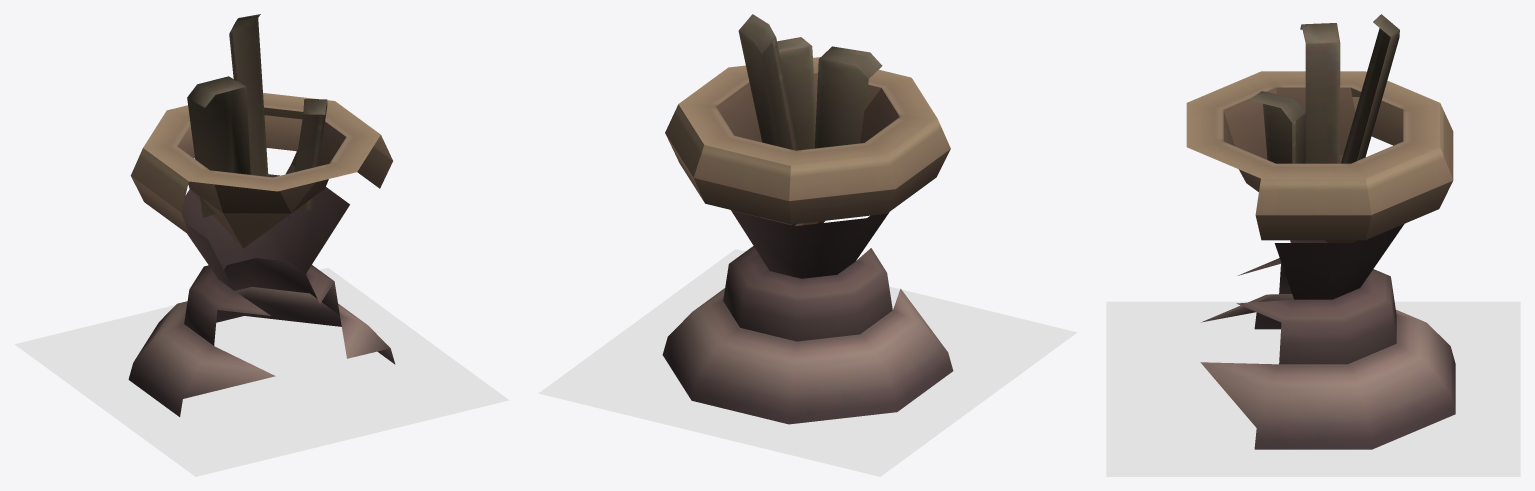
File: brazier1.fbx
The picture shows the model from 3 angles, left to right: view 1: azimuth 30°, elevation 25°; view 2: azimuth 150°, elevation 25°; view 3: azimuth 270°, elevation 25°; orthographic projection. The views are drawn at different scales.
Parts seen in each view (by area): view 1: brazier1, shadow (7); view 2: brazier1, shadow (7); view 3: brazier1, shadow (7).
Part boxes in pixels (x1=…): brazier1: x1=128, y1=14, x2=395, y2=416; shadow (7): x1=15, y1=267, x2=509, y2=476; brazier1: x1=662, y1=14, x2=953, y2=424; shadow (7): x1=538, y1=249, x2=1077, y2=476; brazier1: x1=1186, y1=14, x2=1455, y2=449; shadow (7): x1=1106, y1=301, x2=1520, y2=476.
Size of the model in its own units: 0.78 by 0.8007 by 0.78.
2 materials, 2 textured.
